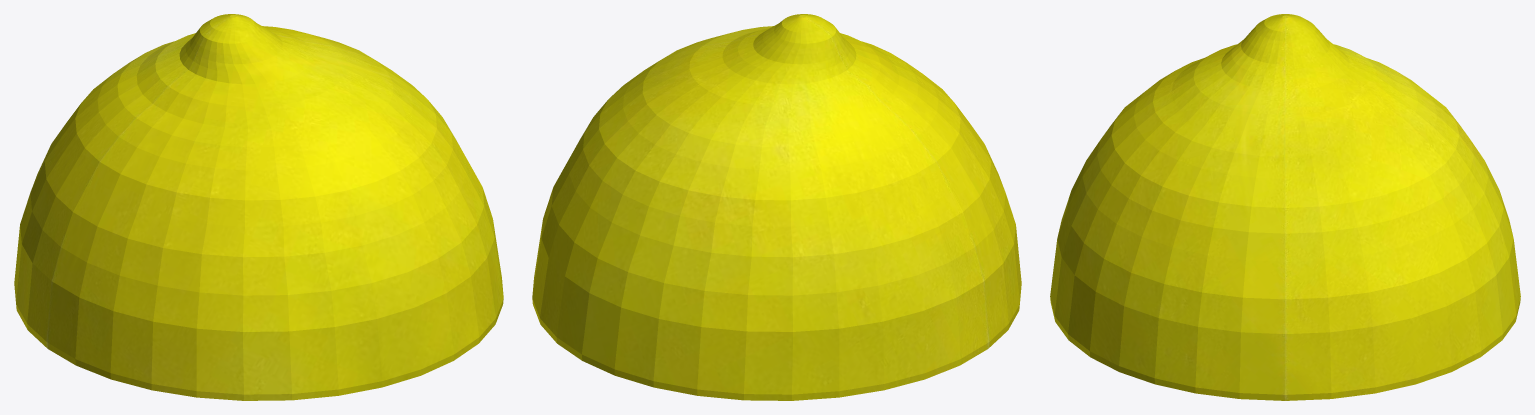
File: lemon_right.obj
3 views of the same model, side by side, from view 1: azimuth 30°, elevation 25°; view 2: azimuth 150°, elevation 25°; view 3: azimuth 270°, elevation 25° (orthographic). The views are drawn at different scales.
Parts seen in each view (by area): view 1: fruit_half; view 2: fruit_half; view 3: fruit_half.
Part boxes in pixels (x1,y1,x2,y2): fruit_half: (14,14,503,400); fruit_half: (532,14,1021,400); fruit_half: (1050,14,1520,400).
Bounding box in the file's own units: 3.91 × 2.53 × 3.95.
